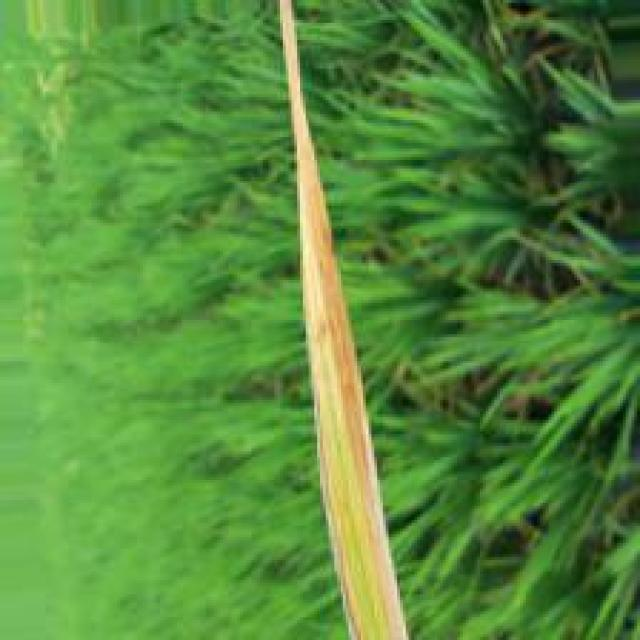Bacterial_Leaf_Blight: (290, 144, 409, 637)
